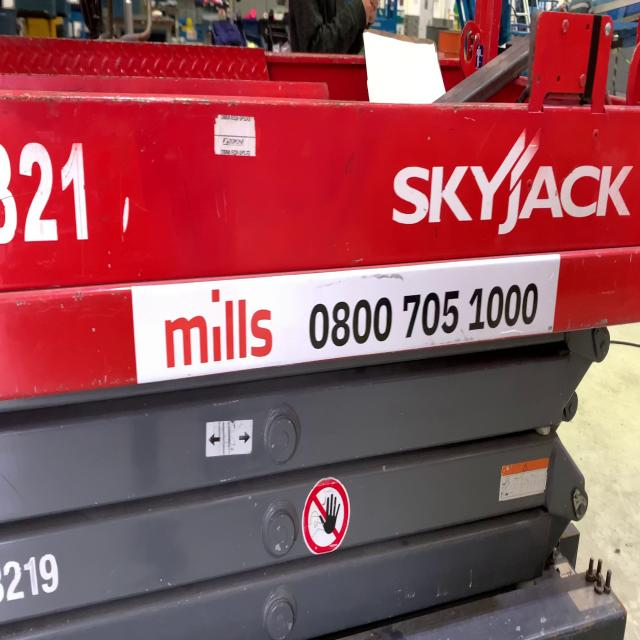Adesivo Longo: (131, 251, 563, 389)
